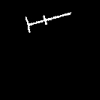double_crochet: (26, 13, 69, 31)
